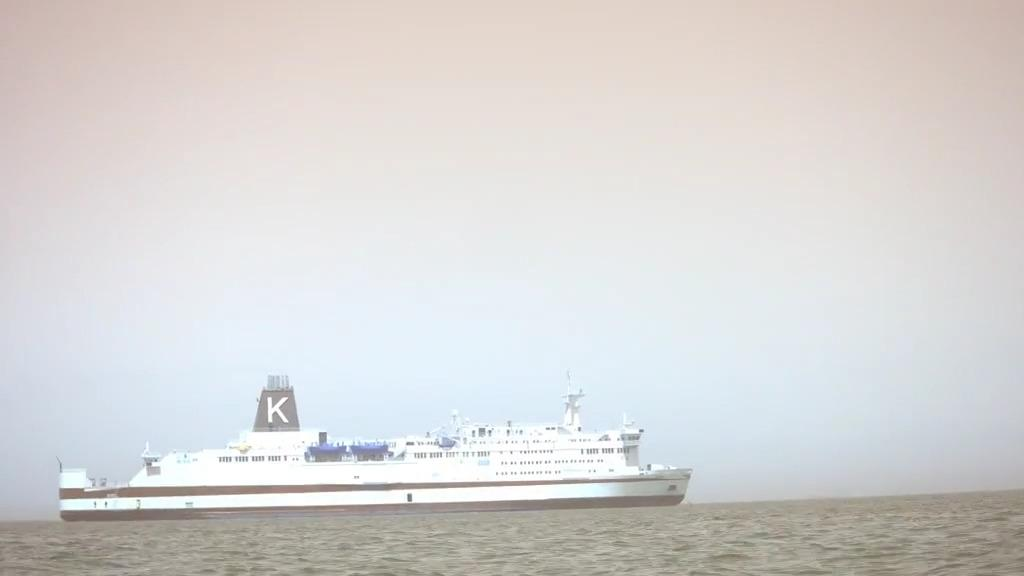PassengerShip: (52, 367, 702, 522)
